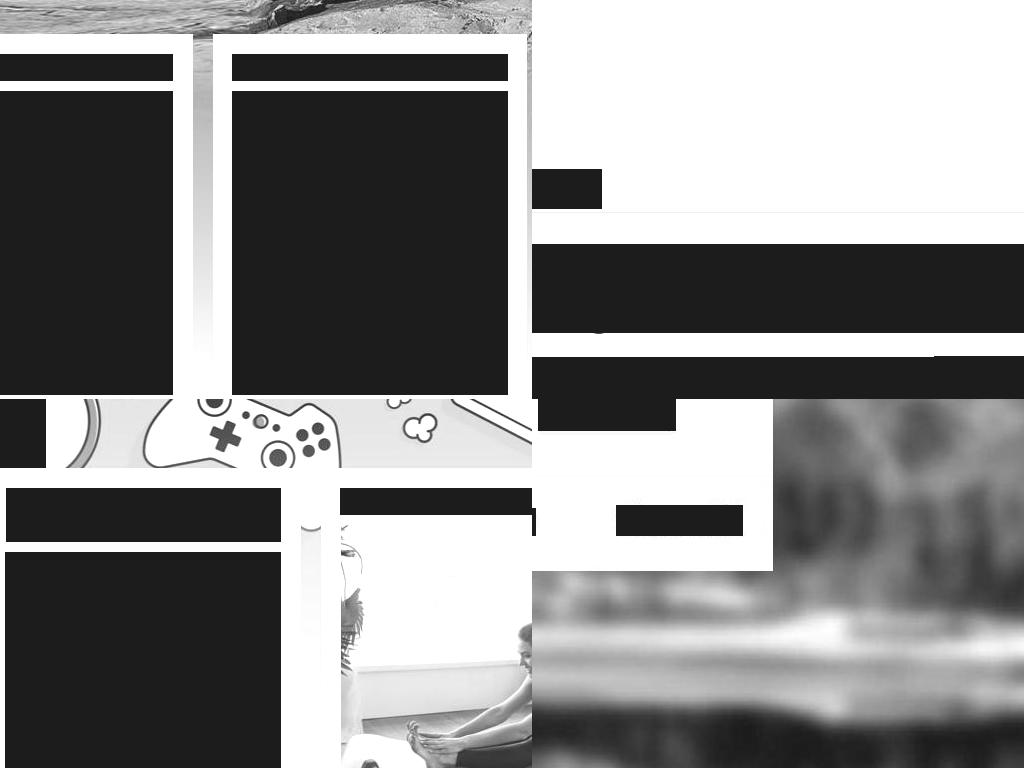button: (232, 91, 508, 395), (6, 552, 281, 768), (0, 91, 173, 395), (340, 525, 532, 768), (538, 399, 676, 431), (934, 356, 1024, 399), (532, 169, 602, 209)
field: (532, 357, 795, 399), (794, 357, 935, 399)
heading: (532, 244, 1024, 333), (6, 488, 281, 542), (232, 54, 508, 81), (340, 488, 532, 515), (0, 54, 173, 81)
image: (232, 91, 508, 395), (5, 552, 281, 768), (0, 91, 173, 395), (340, 525, 532, 768), (616, 505, 743, 536), (802, 374, 821, 393)
